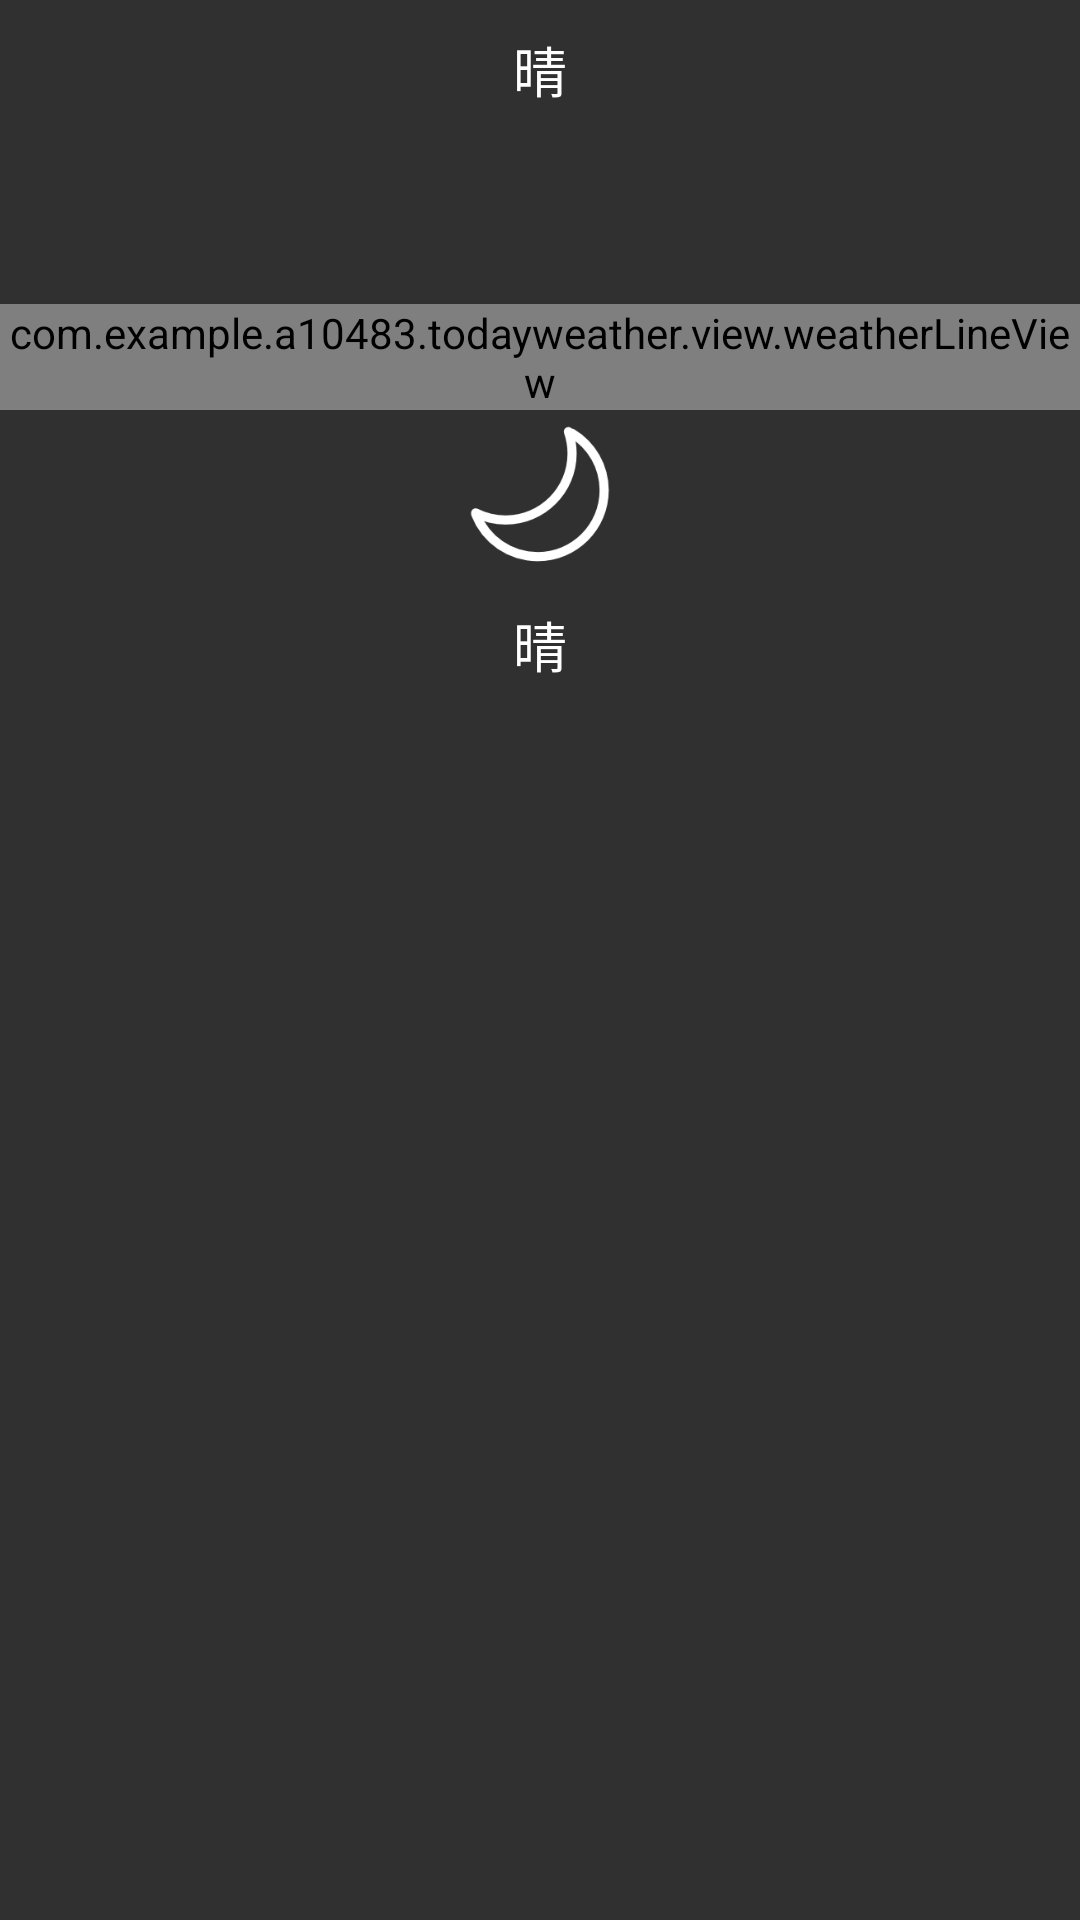

Icons on this 1080 × 1920 Android screen, each with its box as (x1, y1, x2, y2):
sun night: (470, 426, 609, 562)
